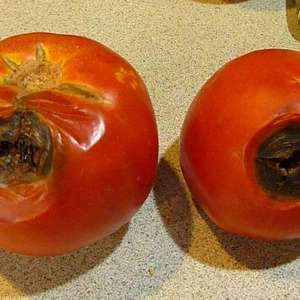anthracnose: (1, 45, 93, 203), (243, 104, 300, 212)
